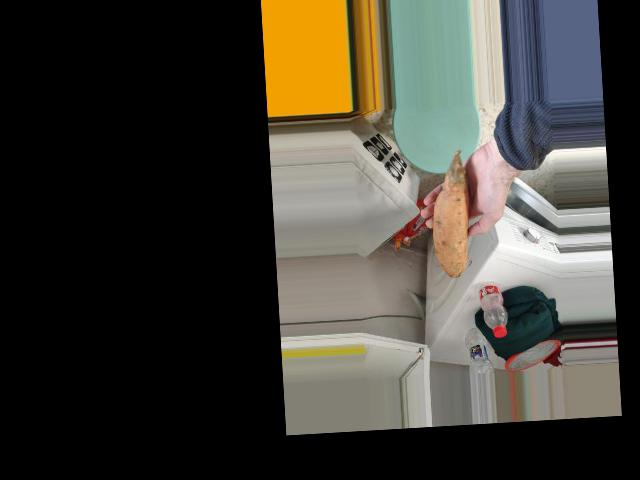sweet_potato: (435, 156, 475, 268)
